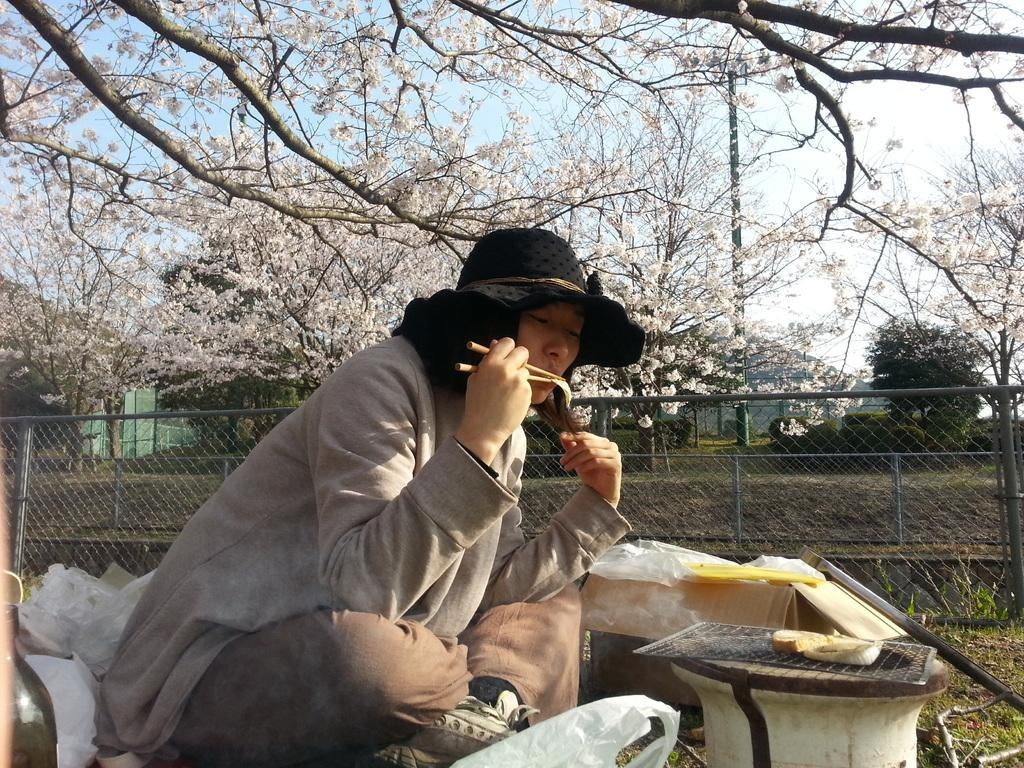Hat: (388, 229, 646, 389)
